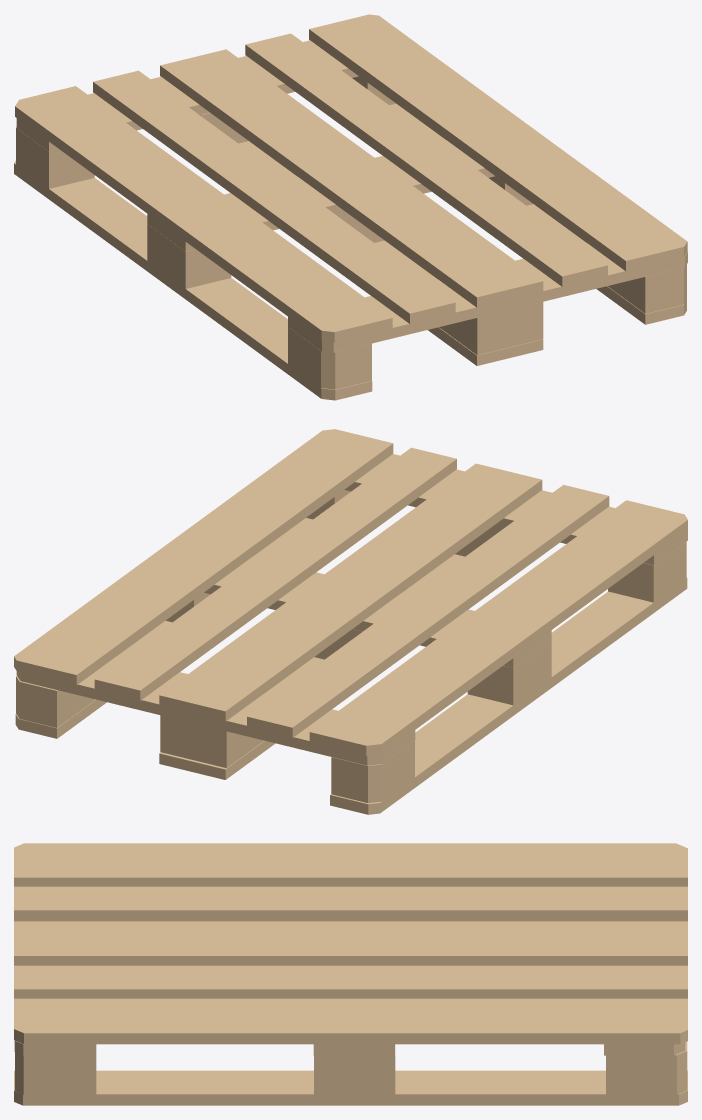
Rendered from eu_pallet.glb.
The picture shows the model from 3 angles, top to bottom: view 1: azimuth 30°, elevation 25°; view 2: azimuth 150°, elevation 25°; view 3: azimuth 270°, elevation 25°; orthographic projection. The views are drawn at different scales.
Visible parts, largest first — view 1: Cube.008, Cube.007, Cube.003, Cube.018, Cube.017, Cube, Cube.004, Cube.015, Cube.001, Cube.013, Cube.014, Cube.002 (+4 smaller); view 2: Cube.008, Cube.007, Cube.003, Cube.018, Cube.017, Cube, Cube.005, Cube.016, Cube.002, Cube.013, Cube.014, Cube.001 (+4 smaller); view 3: Cube.007, Cube.008, Cube.003, Cube.017, Cube.018, Cube.010, Cube.011, Cube.012, Cube.009, Cube.004, Cube.006, Cube.005.
Boxes of the visible parts, left/top/right/bottom form: Cube.008: left=160, top=49, right=543, bottom=307; Cube.007: left=309, top=14, right=687, bottom=271; Cube.003: left=15, top=86, right=392, bottom=342; Cube.018: left=245, top=33, right=607, bottom=286; Cube.017: left=93, top=70, right=455, bottom=323; Cube: left=14, top=160, right=372, bottom=400; Cube.004: left=288, top=243, right=687, bottom=352; Cube.015: left=439, top=302, right=543, bottom=355; Cube.001: left=288, top=327, right=371, bottom=389; Cube.013: left=147, top=224, right=231, bottom=288; Cube.014: left=238, top=141, right=543, bottom=365; Cube.002: left=16, top=127, right=94, bottom=188; Cube.008: left=159, top=463, right=542, bottom=721; Cube.007: left=14, top=429, right=393, bottom=685; Cube.003: left=309, top=500, right=687, bottom=756; Cube.018: left=94, top=447, right=456, bottom=700; Cube.017: left=247, top=485, right=609, bottom=738; Cube: left=330, top=577, right=687, bottom=814; Cube.005: left=16, top=656, right=415, bottom=765; Cube.016: left=160, top=715, right=263, bottom=767; Cube.002: left=331, top=740, right=414, bottom=802; Cube.013: left=467, top=640, right=551, bottom=705; Cube.014: left=159, top=554, right=464, bottom=779; Cube.001: left=608, top=541, right=686, bottom=602; Cube.007: left=14, top=998, right=687, bottom=1044; Cube.008: left=14, top=921, right=687, bottom=965; Cube.003: left=14, top=843, right=687, bottom=886; Cube.017: left=14, top=886, right=687, bottom=921; Cube.018: left=14, top=965, right=687, bottom=998; Cube.010: left=14, top=1070, right=687, bottom=1105; Cube.011: left=606, top=1041, right=687, bottom=1094; Cube.012: left=314, top=1044, right=395, bottom=1094; Cube.009: left=15, top=1052, right=96, bottom=1094; Cube.004: left=14, top=1040, right=96, bottom=1055; Cube.006: left=313, top=1044, right=394, bottom=1055; Cube.005: left=604, top=1042, right=685, bottom=1055.
Size of the model in its own units: 0.8004 by 0.1437 by 1.2.
